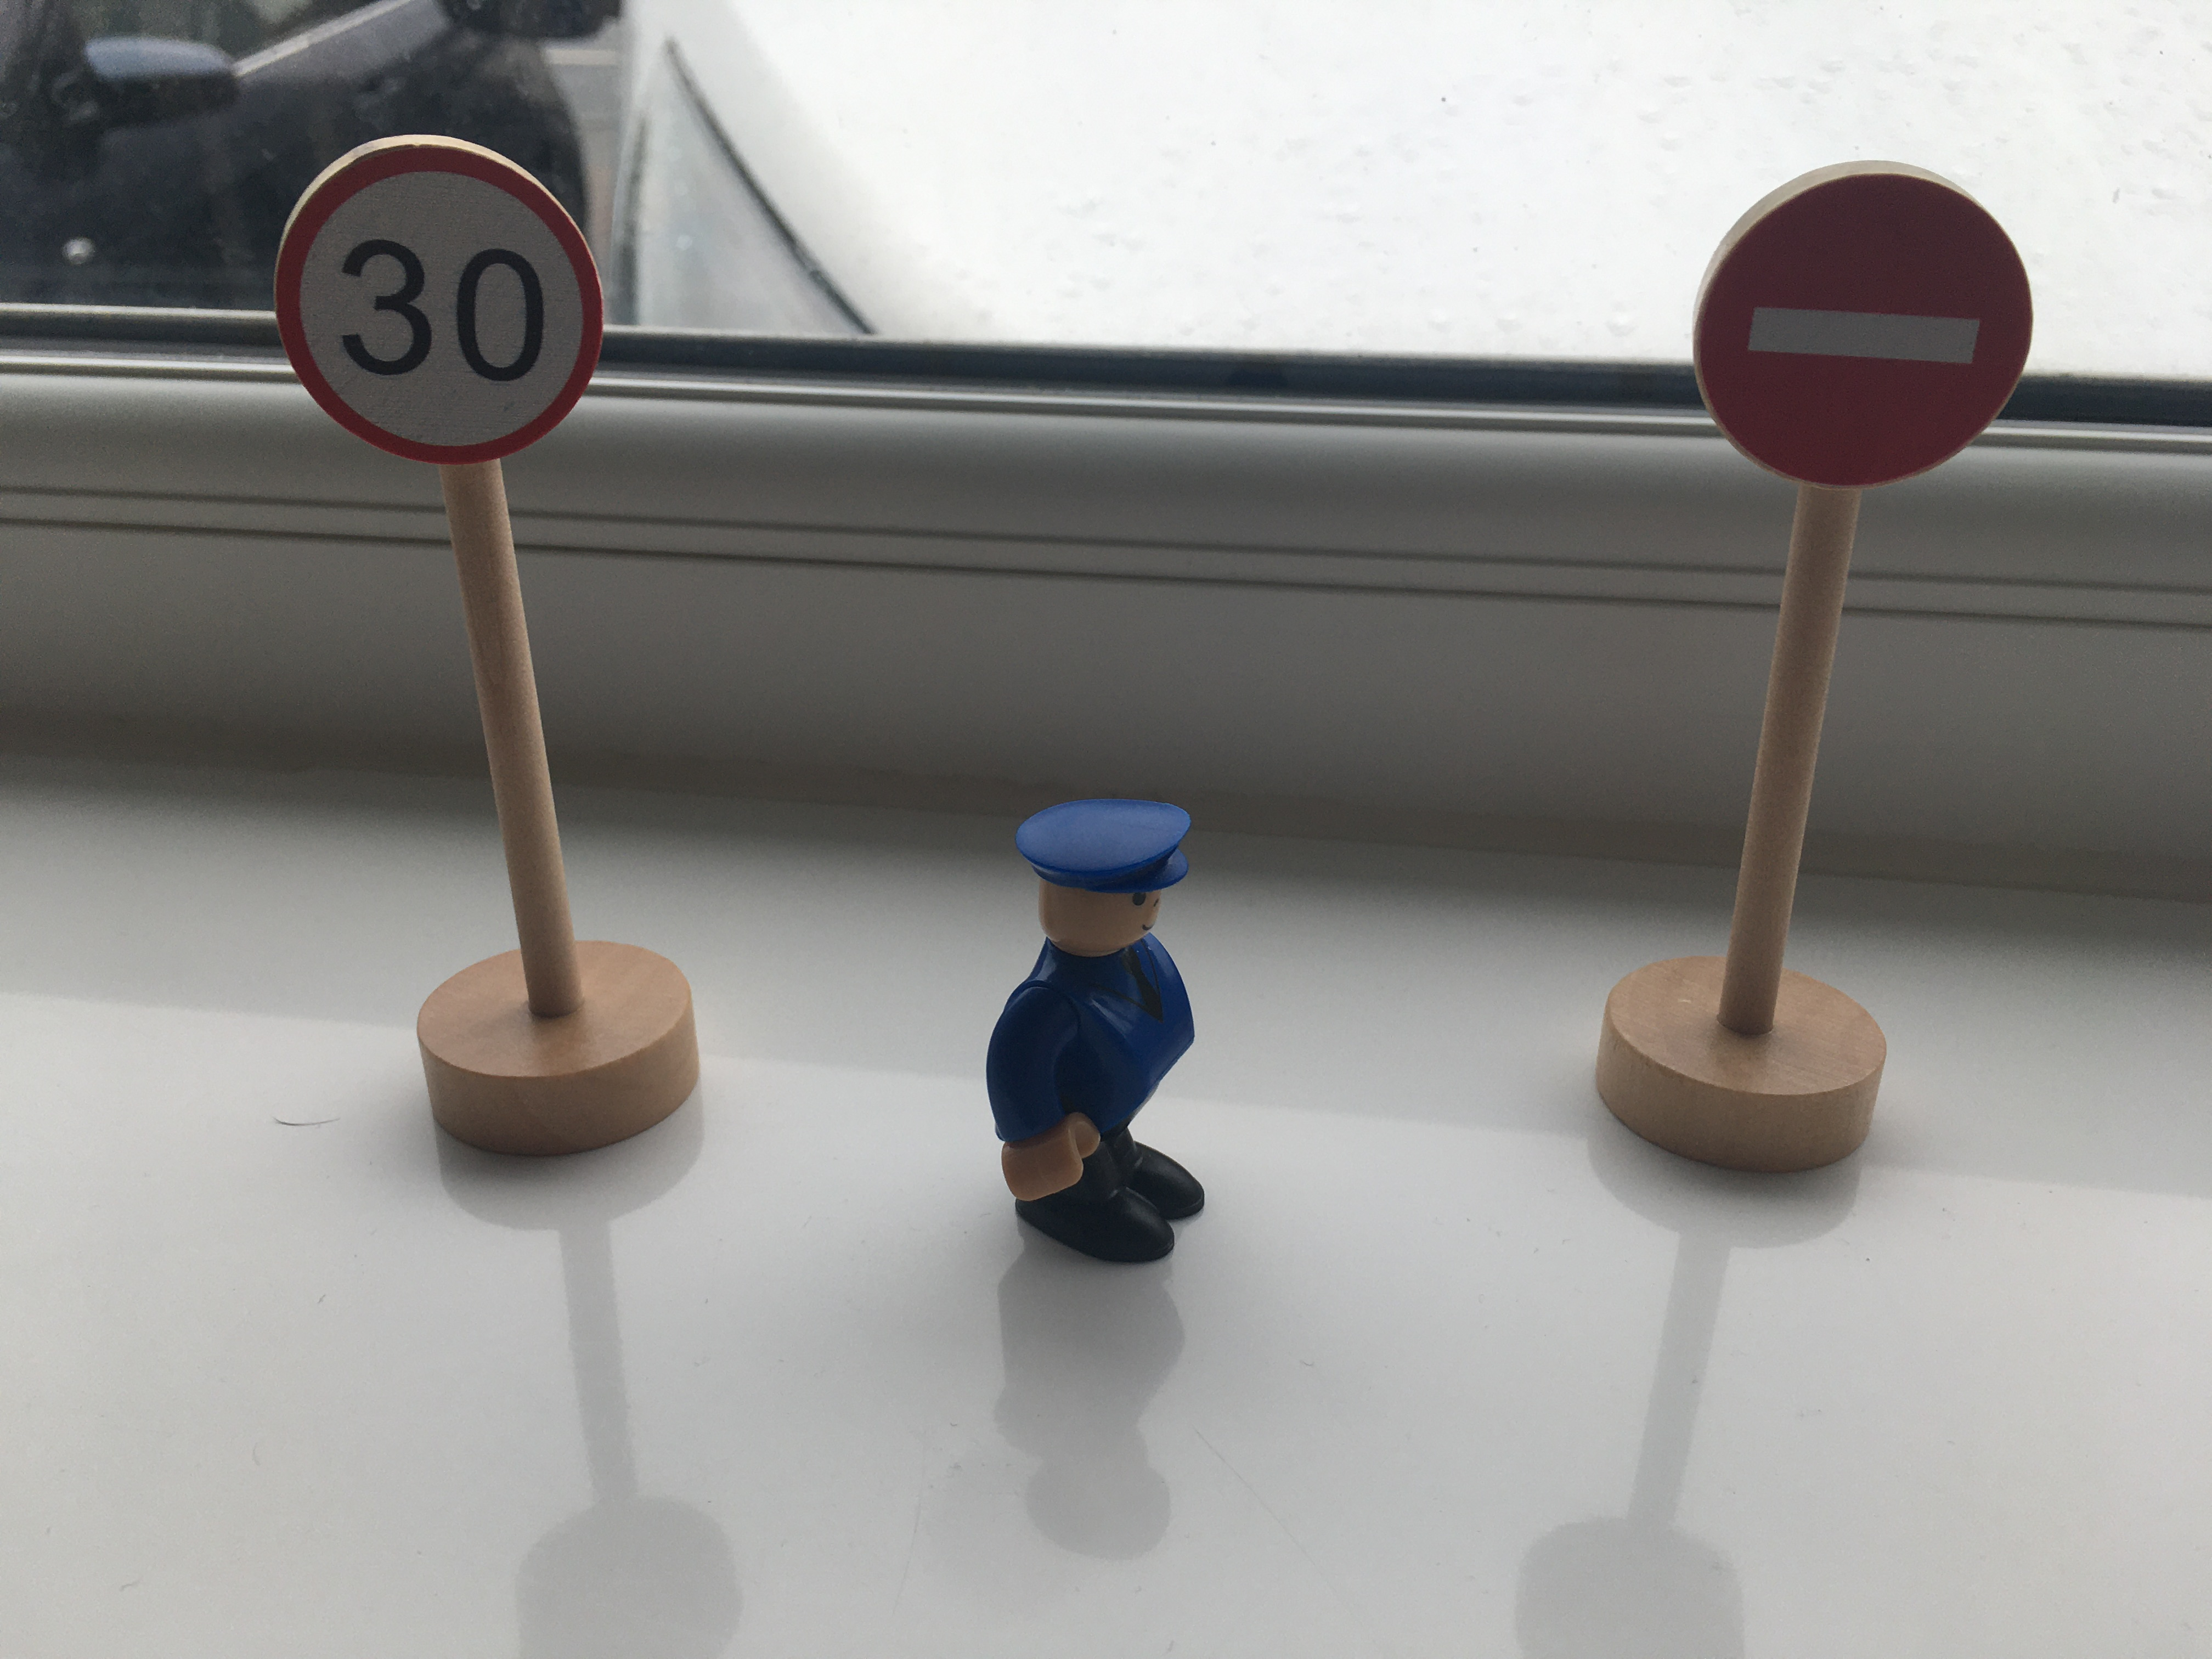Traffic_Sign_30: (273, 137, 606, 459)
Traffic_Sign_No_Entry: (1683, 164, 2032, 487)
person: (968, 781, 1240, 1275)
